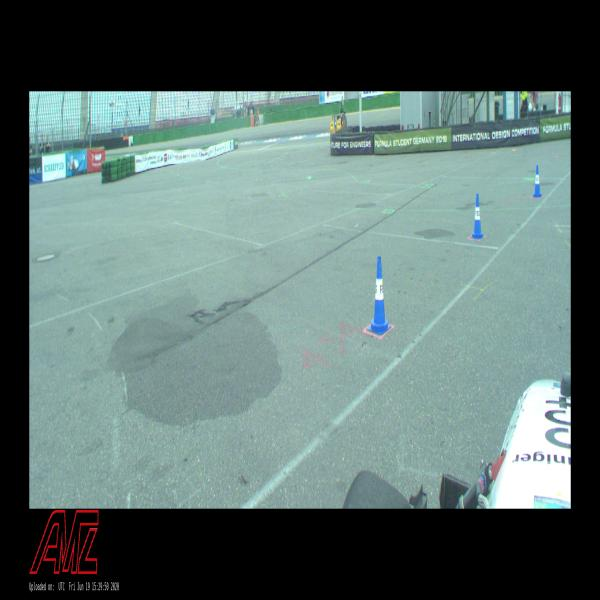blue_cone: (368, 256, 390, 335), (471, 193, 484, 239), (532, 164, 541, 197)
